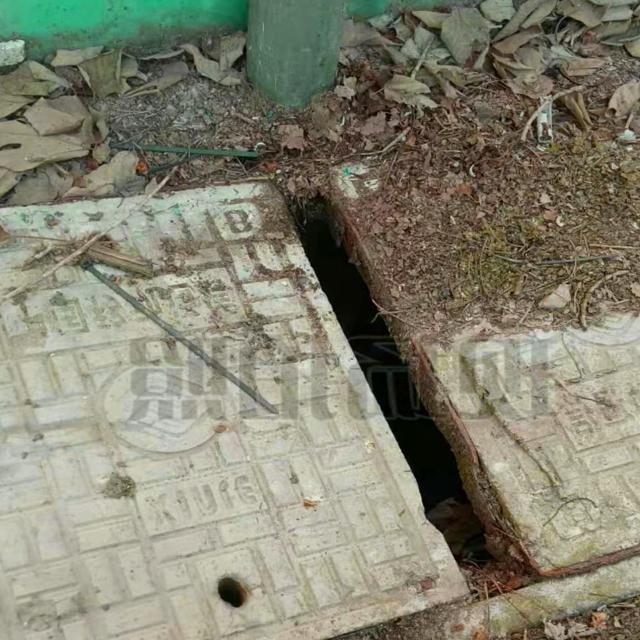uncovered: (0, 150, 640, 640)
